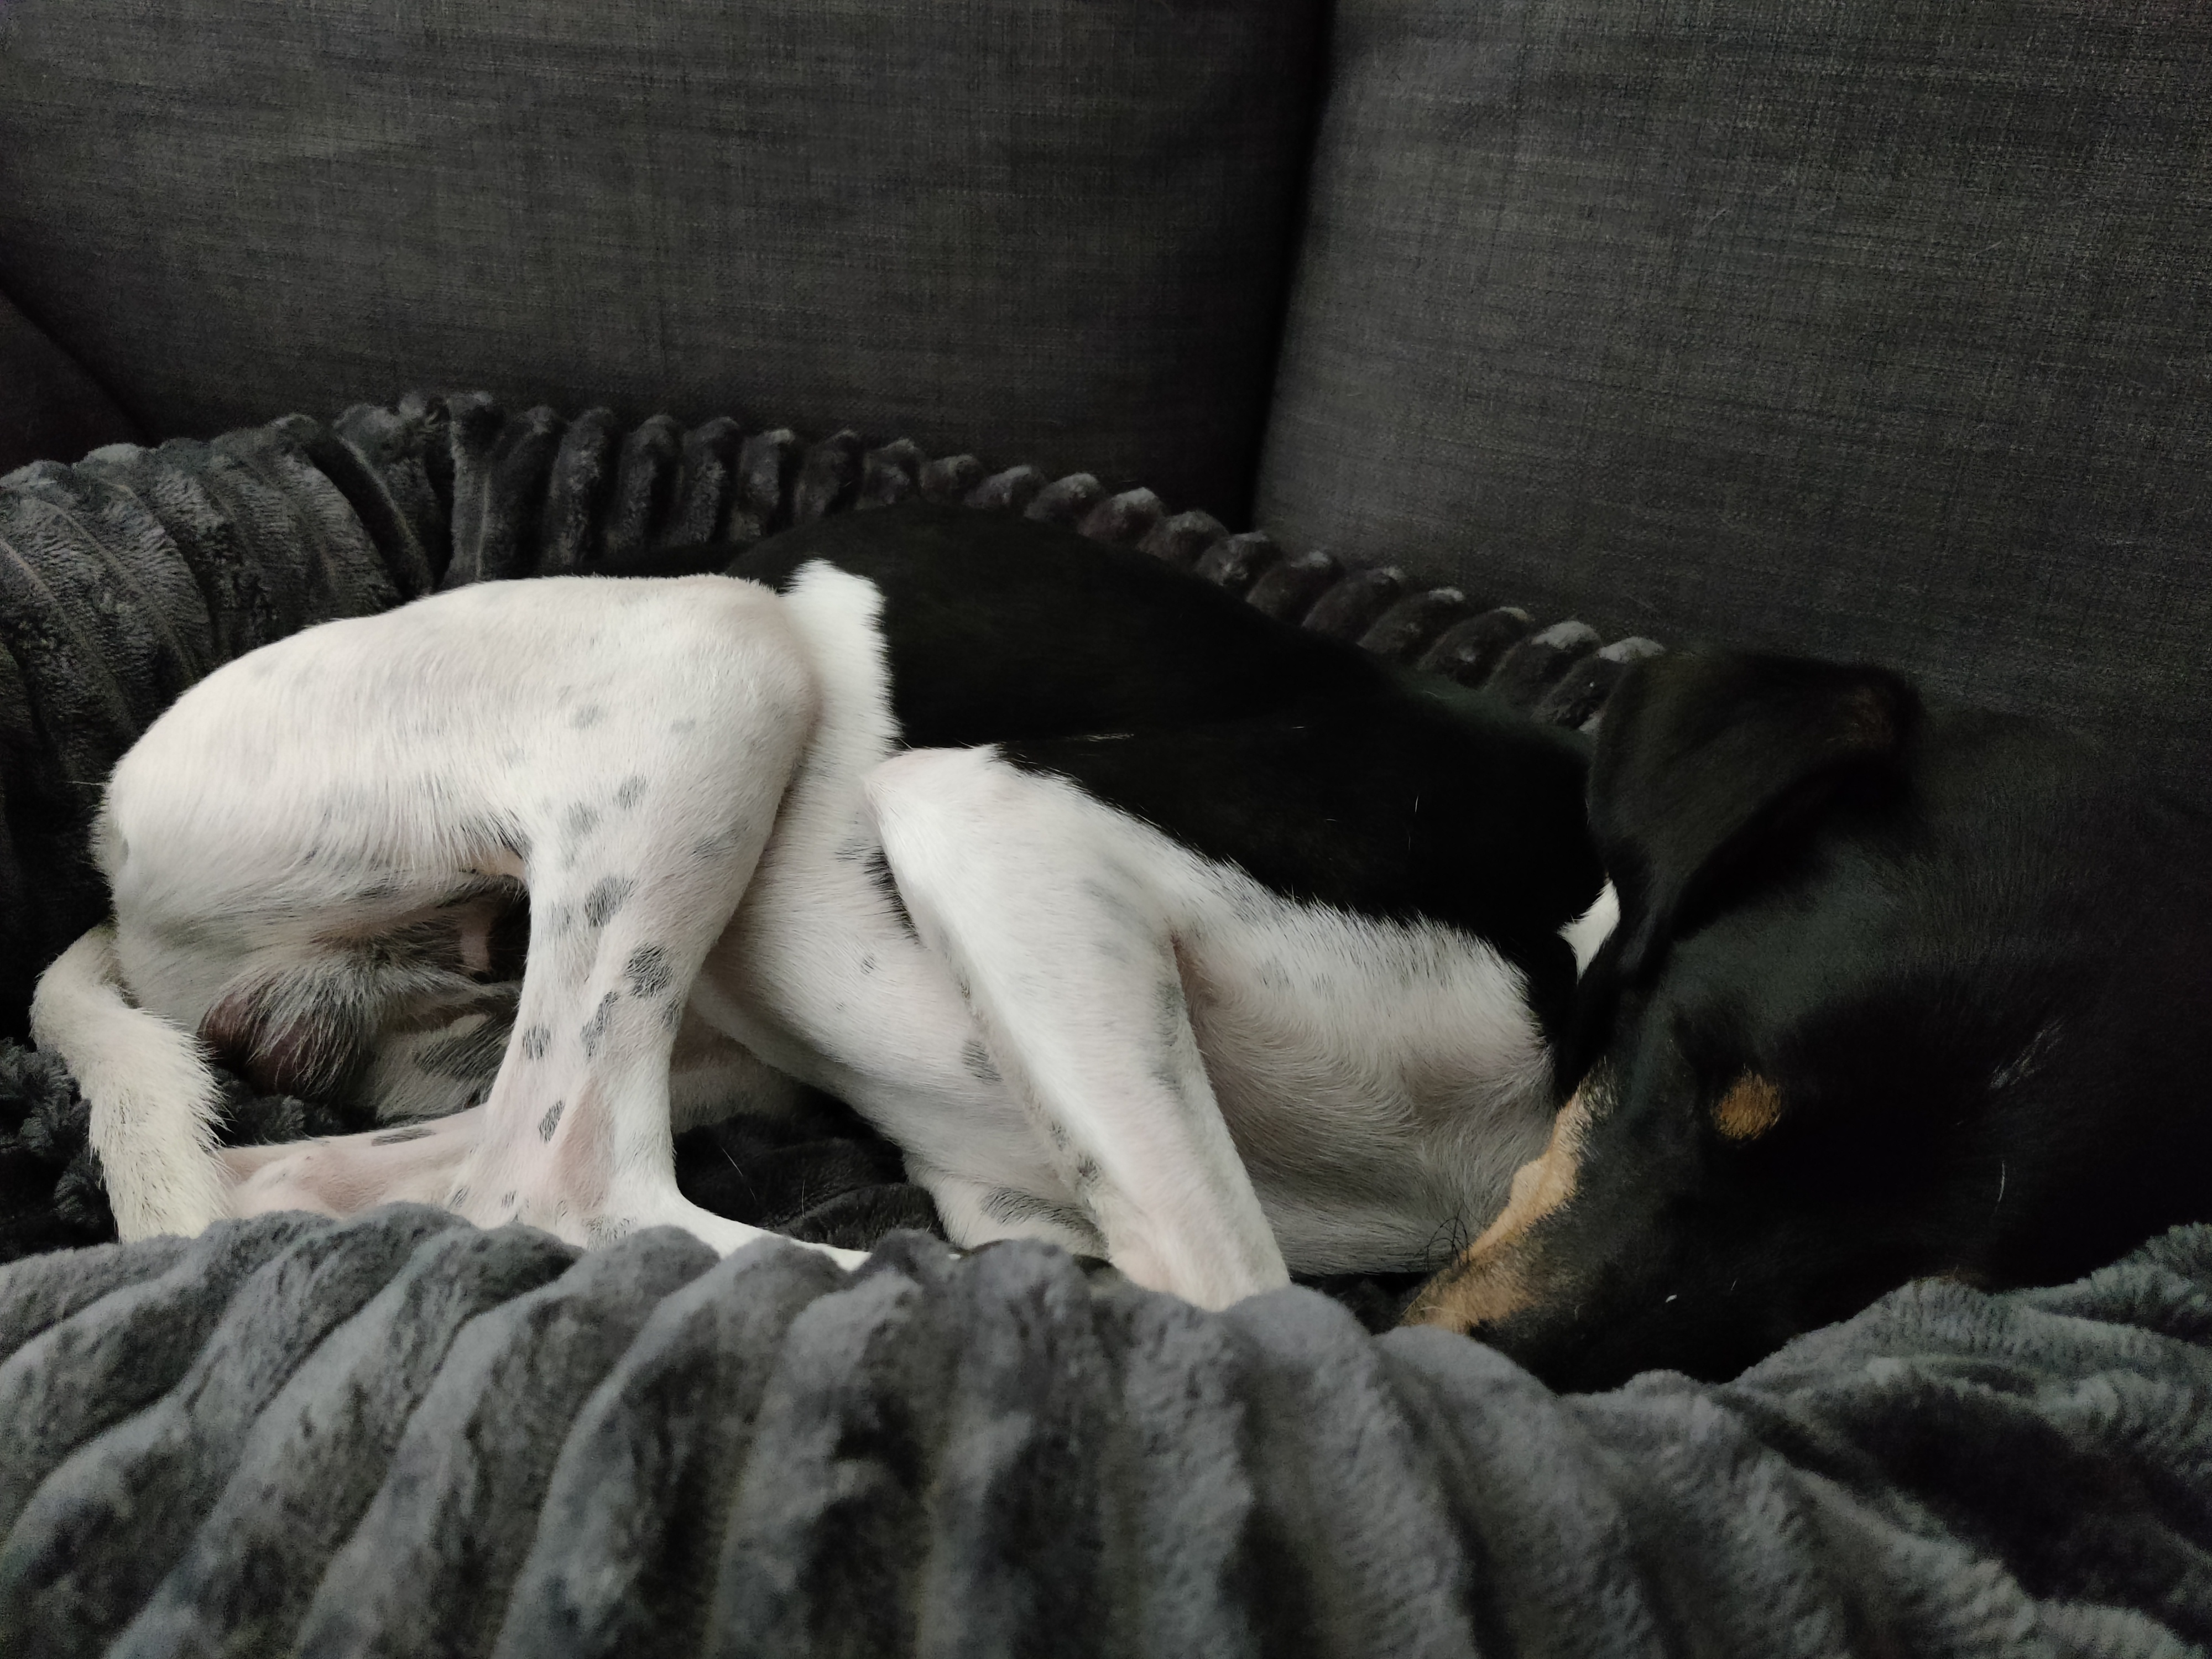Dog: (16, 512, 2212, 1396)
